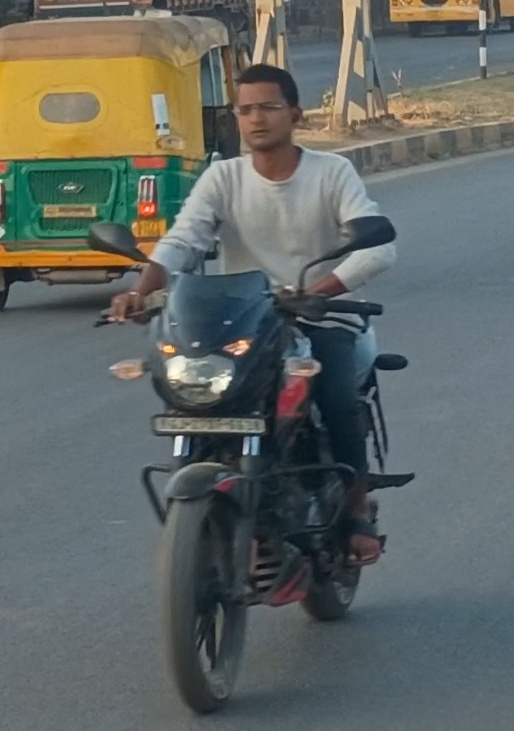BikeWithRider: (79, 57, 424, 721)
NoHelmet: (223, 58, 311, 157)
